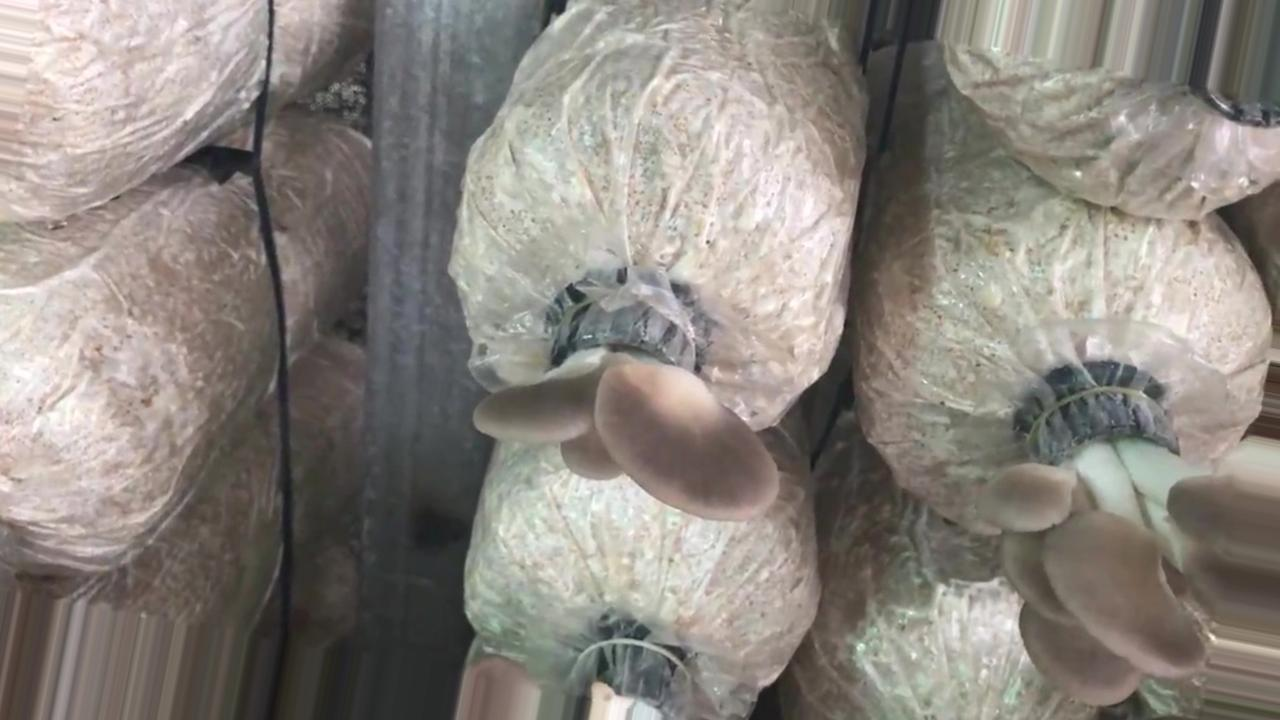nam: (980, 375, 1280, 708), (471, 275, 777, 527)
